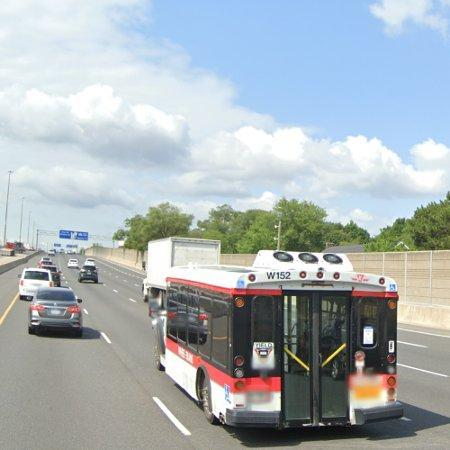buses: (161, 251, 398, 429)
